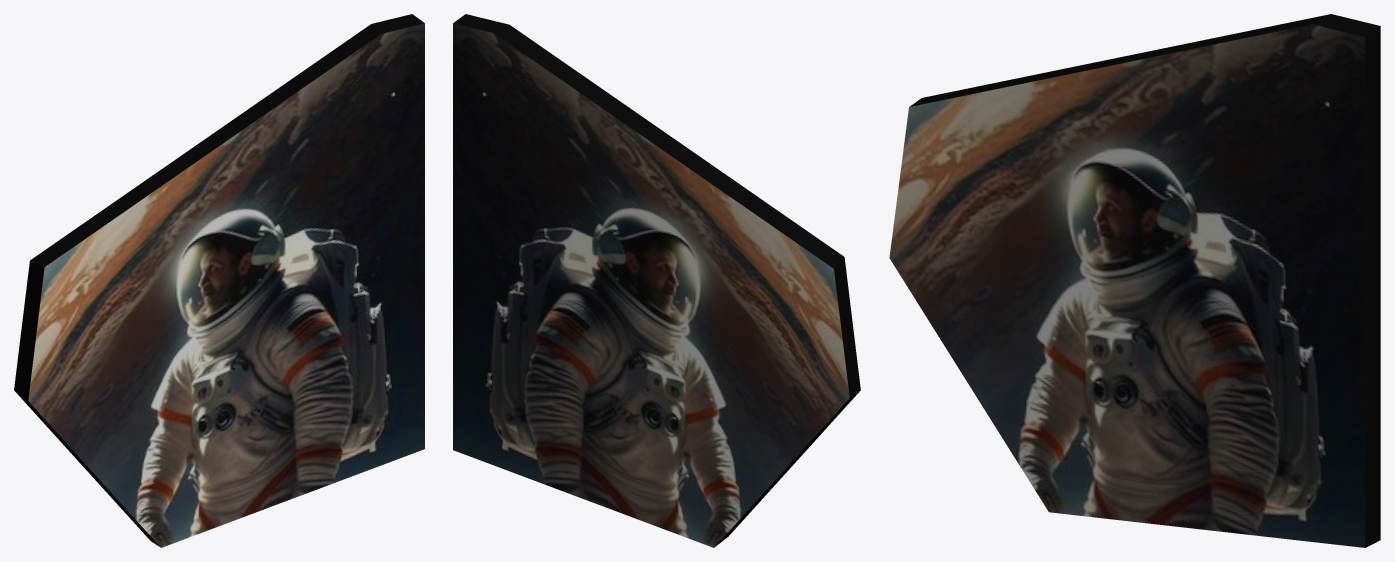
Rendered from Puzzle_1_Cell_02.glb.
3 views of the same model, side by side, from view 1: azimuth 30°, elevation 25°; view 2: azimuth 150°, elevation 25°; view 3: azimuth 330°, elevation 25° (orthographic). The views are drawn at different scales.
Parts seen in each view (by area): view 1: Puzzle_1_cell.002; view 2: Puzzle_1_cell.002; view 3: Puzzle_1_cell.002.
Boxes of the visible parts, x1=… form: Puzzle_1_cell.002: x1=14, y1=14, x2=424, y2=547; Puzzle_1_cell.002: x1=453, y1=14, x2=860, y2=547; Puzzle_1_cell.002: x1=889, y1=14, x2=1380, y2=547.
Bounding box in the file's own units: 2.72 × 3.02 × 0.15.
Materials: 2 (1 with a texture image).
